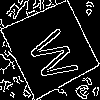W: (26, 23, 89, 85)
